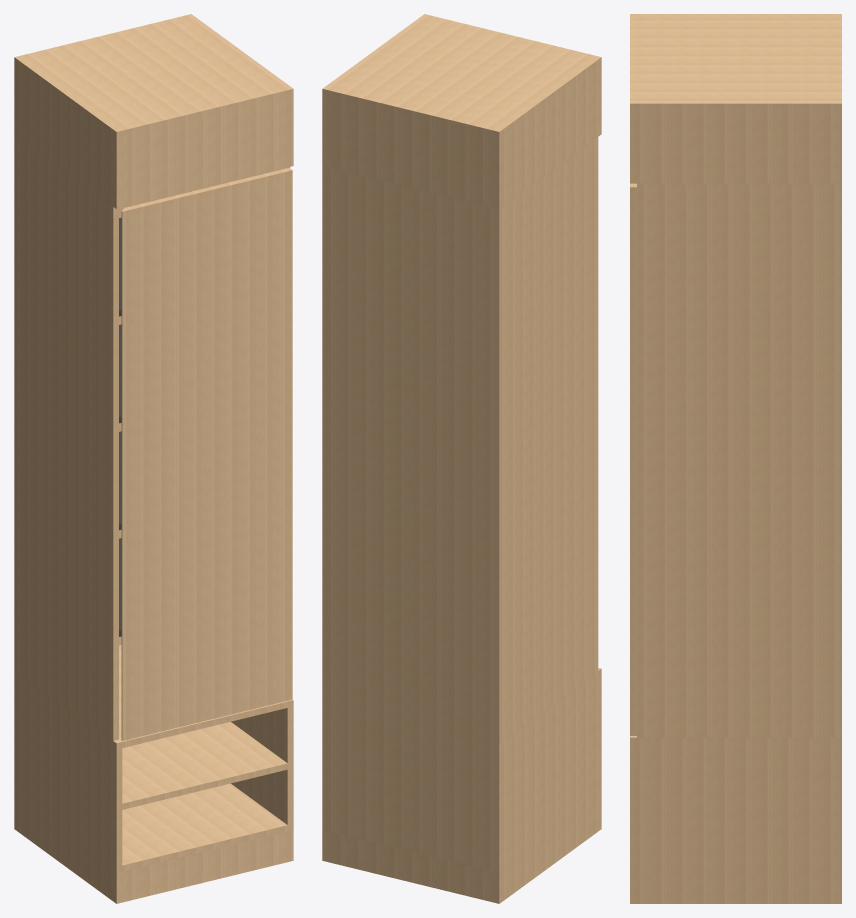
3 renders of one model, left to right at view 1: azimuth 30°, elevation 25°; view 2: azimuth 150°, elevation 25°; view 3: azimuth 270°, elevation 25°, orthographic. The views are drawn at different scales.
Visible parts, largest first — view 1: CSW_Sunray_Cabinet_Door_Sgl_Side-Finger_Groove Swing_Panel [, Casework-Sunray_Cabinet_Carcass_U-shape-bottom Cabinet_Carca, Extrusion [7713926], Casework-Sunray_Cabinet_Carcass Cabinet_Carcass [7713771], Casework-Sunray_Cabinet_Base.0001 Cabinet_Base [7713743], Extrusion [7713850], Extrusion [7713871]; view 2: Casework-Sunray_Cabinet_Carcass_U-shape-bottom Cabinet_Carca, Extrusion [7713926], Casework-Sunray_Cabinet_Carcass Cabinet_Carcass [7713771], Casework-Sunray_Cabinet_Base.0001 Cabinet_Base [7713743]; view 3: Casework-Sunray_Cabinet_Carcass_U-shape-bottom Cabinet_Carca, Extrusion [7713926], Casework-Sunray_Cabinet_Carcass Cabinet_Carcass [7713771], Casework-Sunray_Cabinet_Base.0001 Cabinet_Base [7713743], CSW_Sunray_Cabinet_Door_Sgl_Side-Finger_Groove Swing_Panel [.
Boxes of the visible parts, box(x1,y1,x2,y2) form: CSW_Sunray_Cabinet_Door_Sgl_Side-Finger_Groove Swing_Panel [: box(121, 168, 292, 740); Casework-Sunray_Cabinet_Carcass_U-shape-bottom Cabinet_Carca: box(14, 134, 290, 740); Extrusion [7713926]: box(14, 14, 293, 208); Casework-Sunray_Cabinet_Carcass Cabinet_Carcass [7713771]: box(14, 645, 293, 872); Casework-Sunray_Cabinet_Base.0001 Cabinet_Base [7713743]: box(14, 798, 293, 903); Extrusion [7713850]: box(122, 721, 287, 809); Extrusion [7713871]: box(119, 217, 121, 636); Casework-Sunray_Cabinet_Carcass_U-shape-bottom Cabinet_Carca: box(322, 137, 598, 743); Extrusion [7713926]: box(322, 14, 601, 208); Casework-Sunray_Cabinet_Carcass Cabinet_Carcass [7713771]: box(322, 668, 601, 872); Casework-Sunray_Cabinet_Base.0001 Cabinet_Base [7713743]: box(322, 798, 601, 903); Casework-Sunray_Cabinet_Carcass_U-shape-bottom Cabinet_Carca: box(637, 183, 841, 737); Extrusion [7713926]: box(630, 14, 841, 183); Casework-Sunray_Cabinet_Carcass Cabinet_Carcass [7713771]: box(630, 736, 841, 871); Casework-Sunray_Cabinet_Base.0001 Cabinet_Base [7713743]: box(630, 872, 841, 903); CSW_Sunray_Cabinet_Door_Sgl_Side-Finger_Groove Swing_Panel [: box(630, 183, 636, 735).
Bounding box in the file's own units: 23.62 × 98.43 × 23.62.
Materials: 2 (1 with a texture image).
